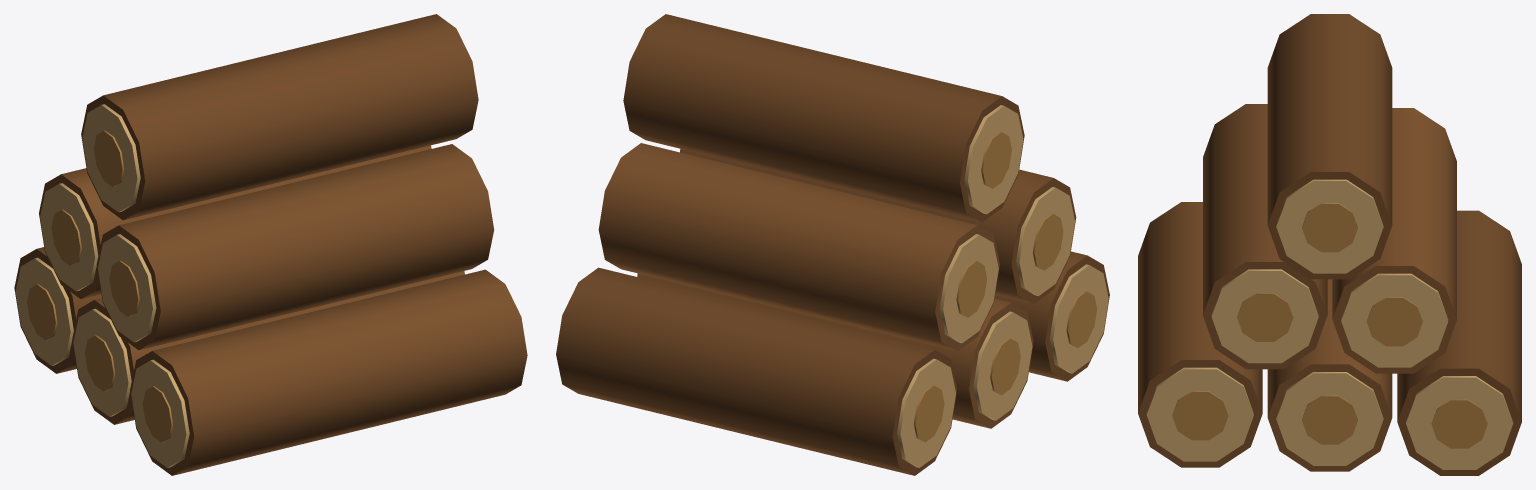
Rendered from p_pile_wood.glb.
3 views of the same model, side by side, from view 1: azimuth 30°, elevation 25°; view 2: azimuth 150°, elevation 25°; view 3: azimuth 270°, elevation 25° (orthographic). The views are drawn at different scales.
Parts seen in each view (by area): view 1: body; view 2: body; view 3: body.
Boxes of the visible parts, x1=… form: body: x1=14, y1=14, x2=527, y2=475; body: x1=556, y1=14, x2=1109, y2=475; body: x1=1138, y1=14, x2=1521, y2=475.
Size of the model in its own units: 1.62 by 1.35 by 1.54.
